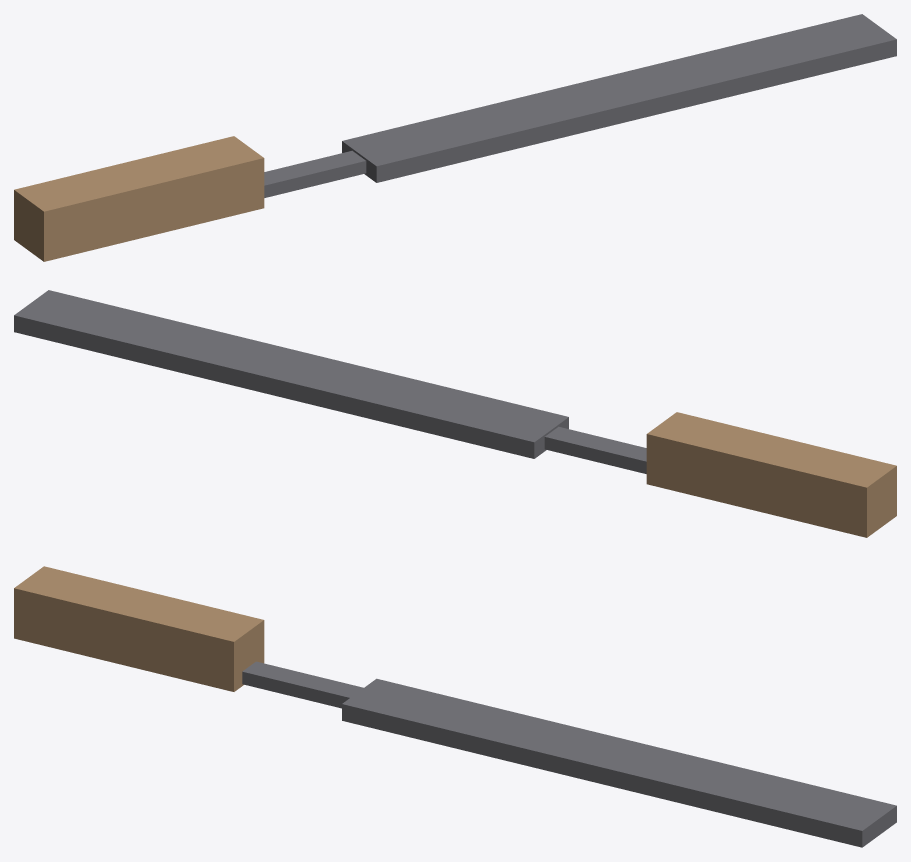
The model's file is prop-file-rasp-st1.fbx.
3 views of the same model, one above another, from view 1: azimuth 30°, elevation 25°; view 2: azimuth 150°, elevation 25°; view 3: azimuth 330°, elevation 25° (orthographic).
Visible parts, largest first — view 1: prop-file-rasp-st1; view 2: prop-file-rasp-st1; view 3: prop-file-rasp-st1.
Boxes of the visible parts, bbox=[...] form: prop-file-rasp-st1: bbox=[14, 14, 896, 261]; prop-file-rasp-st1: bbox=[14, 290, 896, 537]; prop-file-rasp-st1: bbox=[14, 566, 896, 847].
Size of the model in its own units: 42.5 by 2.4 by 3.
